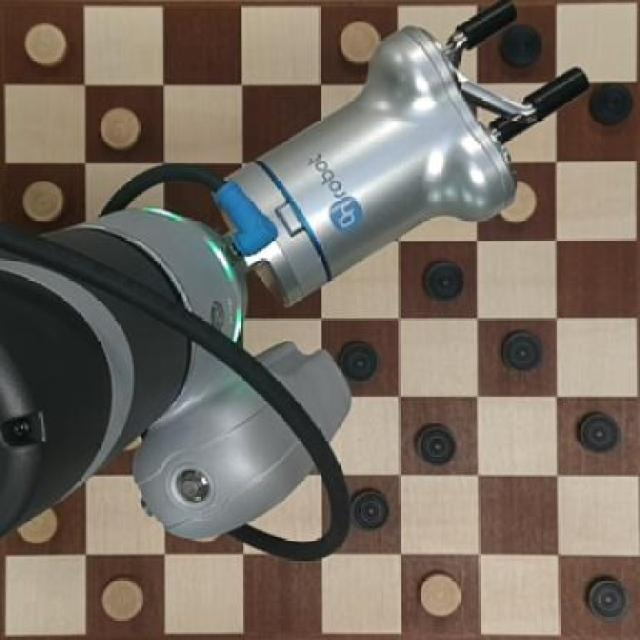black: (409, 247, 473, 311), (574, 567, 632, 627), (495, 321, 547, 379), (570, 404, 624, 458), (588, 72, 633, 134), (498, 20, 548, 73), (412, 414, 456, 467), (336, 336, 388, 380), (345, 488, 395, 532)
white: (14, 15, 72, 74), (10, 172, 71, 227), (94, 563, 152, 620), (414, 566, 471, 620), (95, 99, 143, 151), (330, 14, 380, 62)
